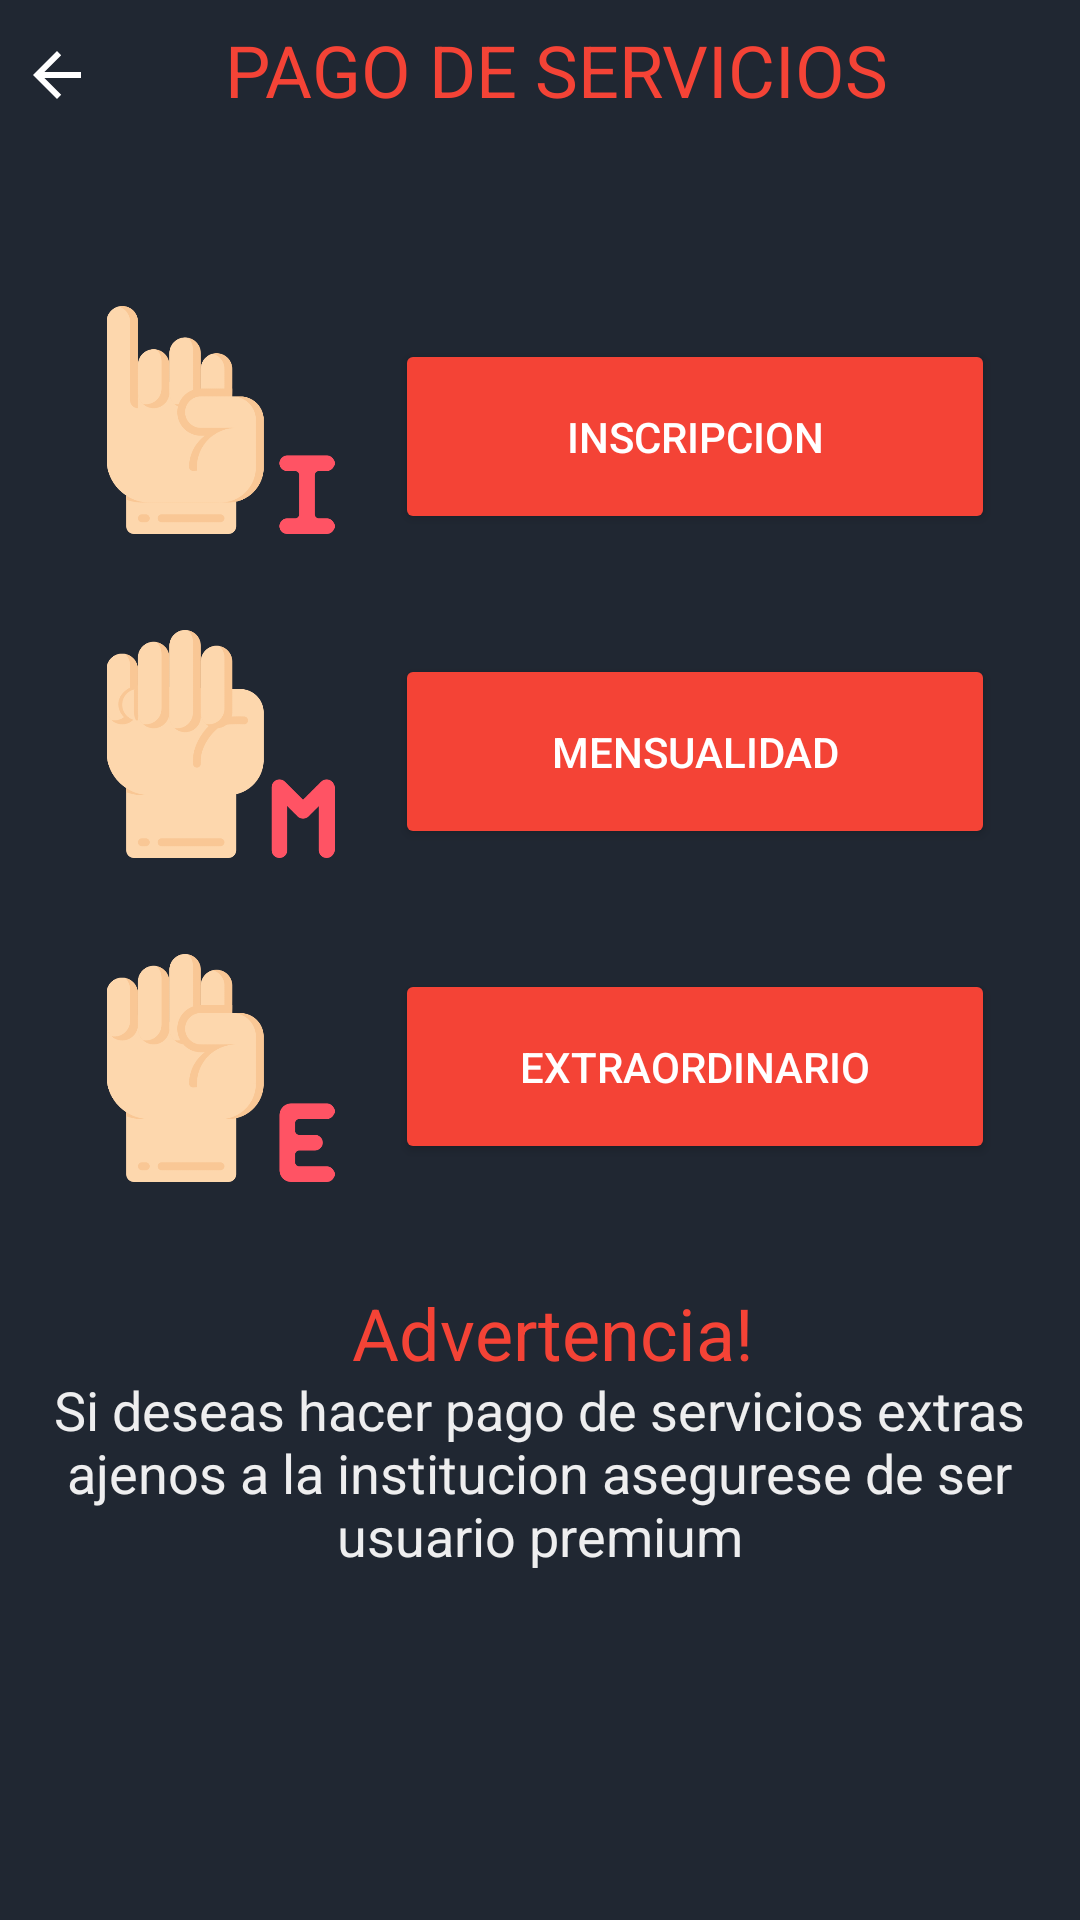

Icons on this 1080x1920 Android screen, each with its box as BBox(x1, y1, x2, y2):
letter: BBox(107, 306, 335, 534), BBox(107, 630, 335, 858), BBox(107, 954, 335, 1182)
